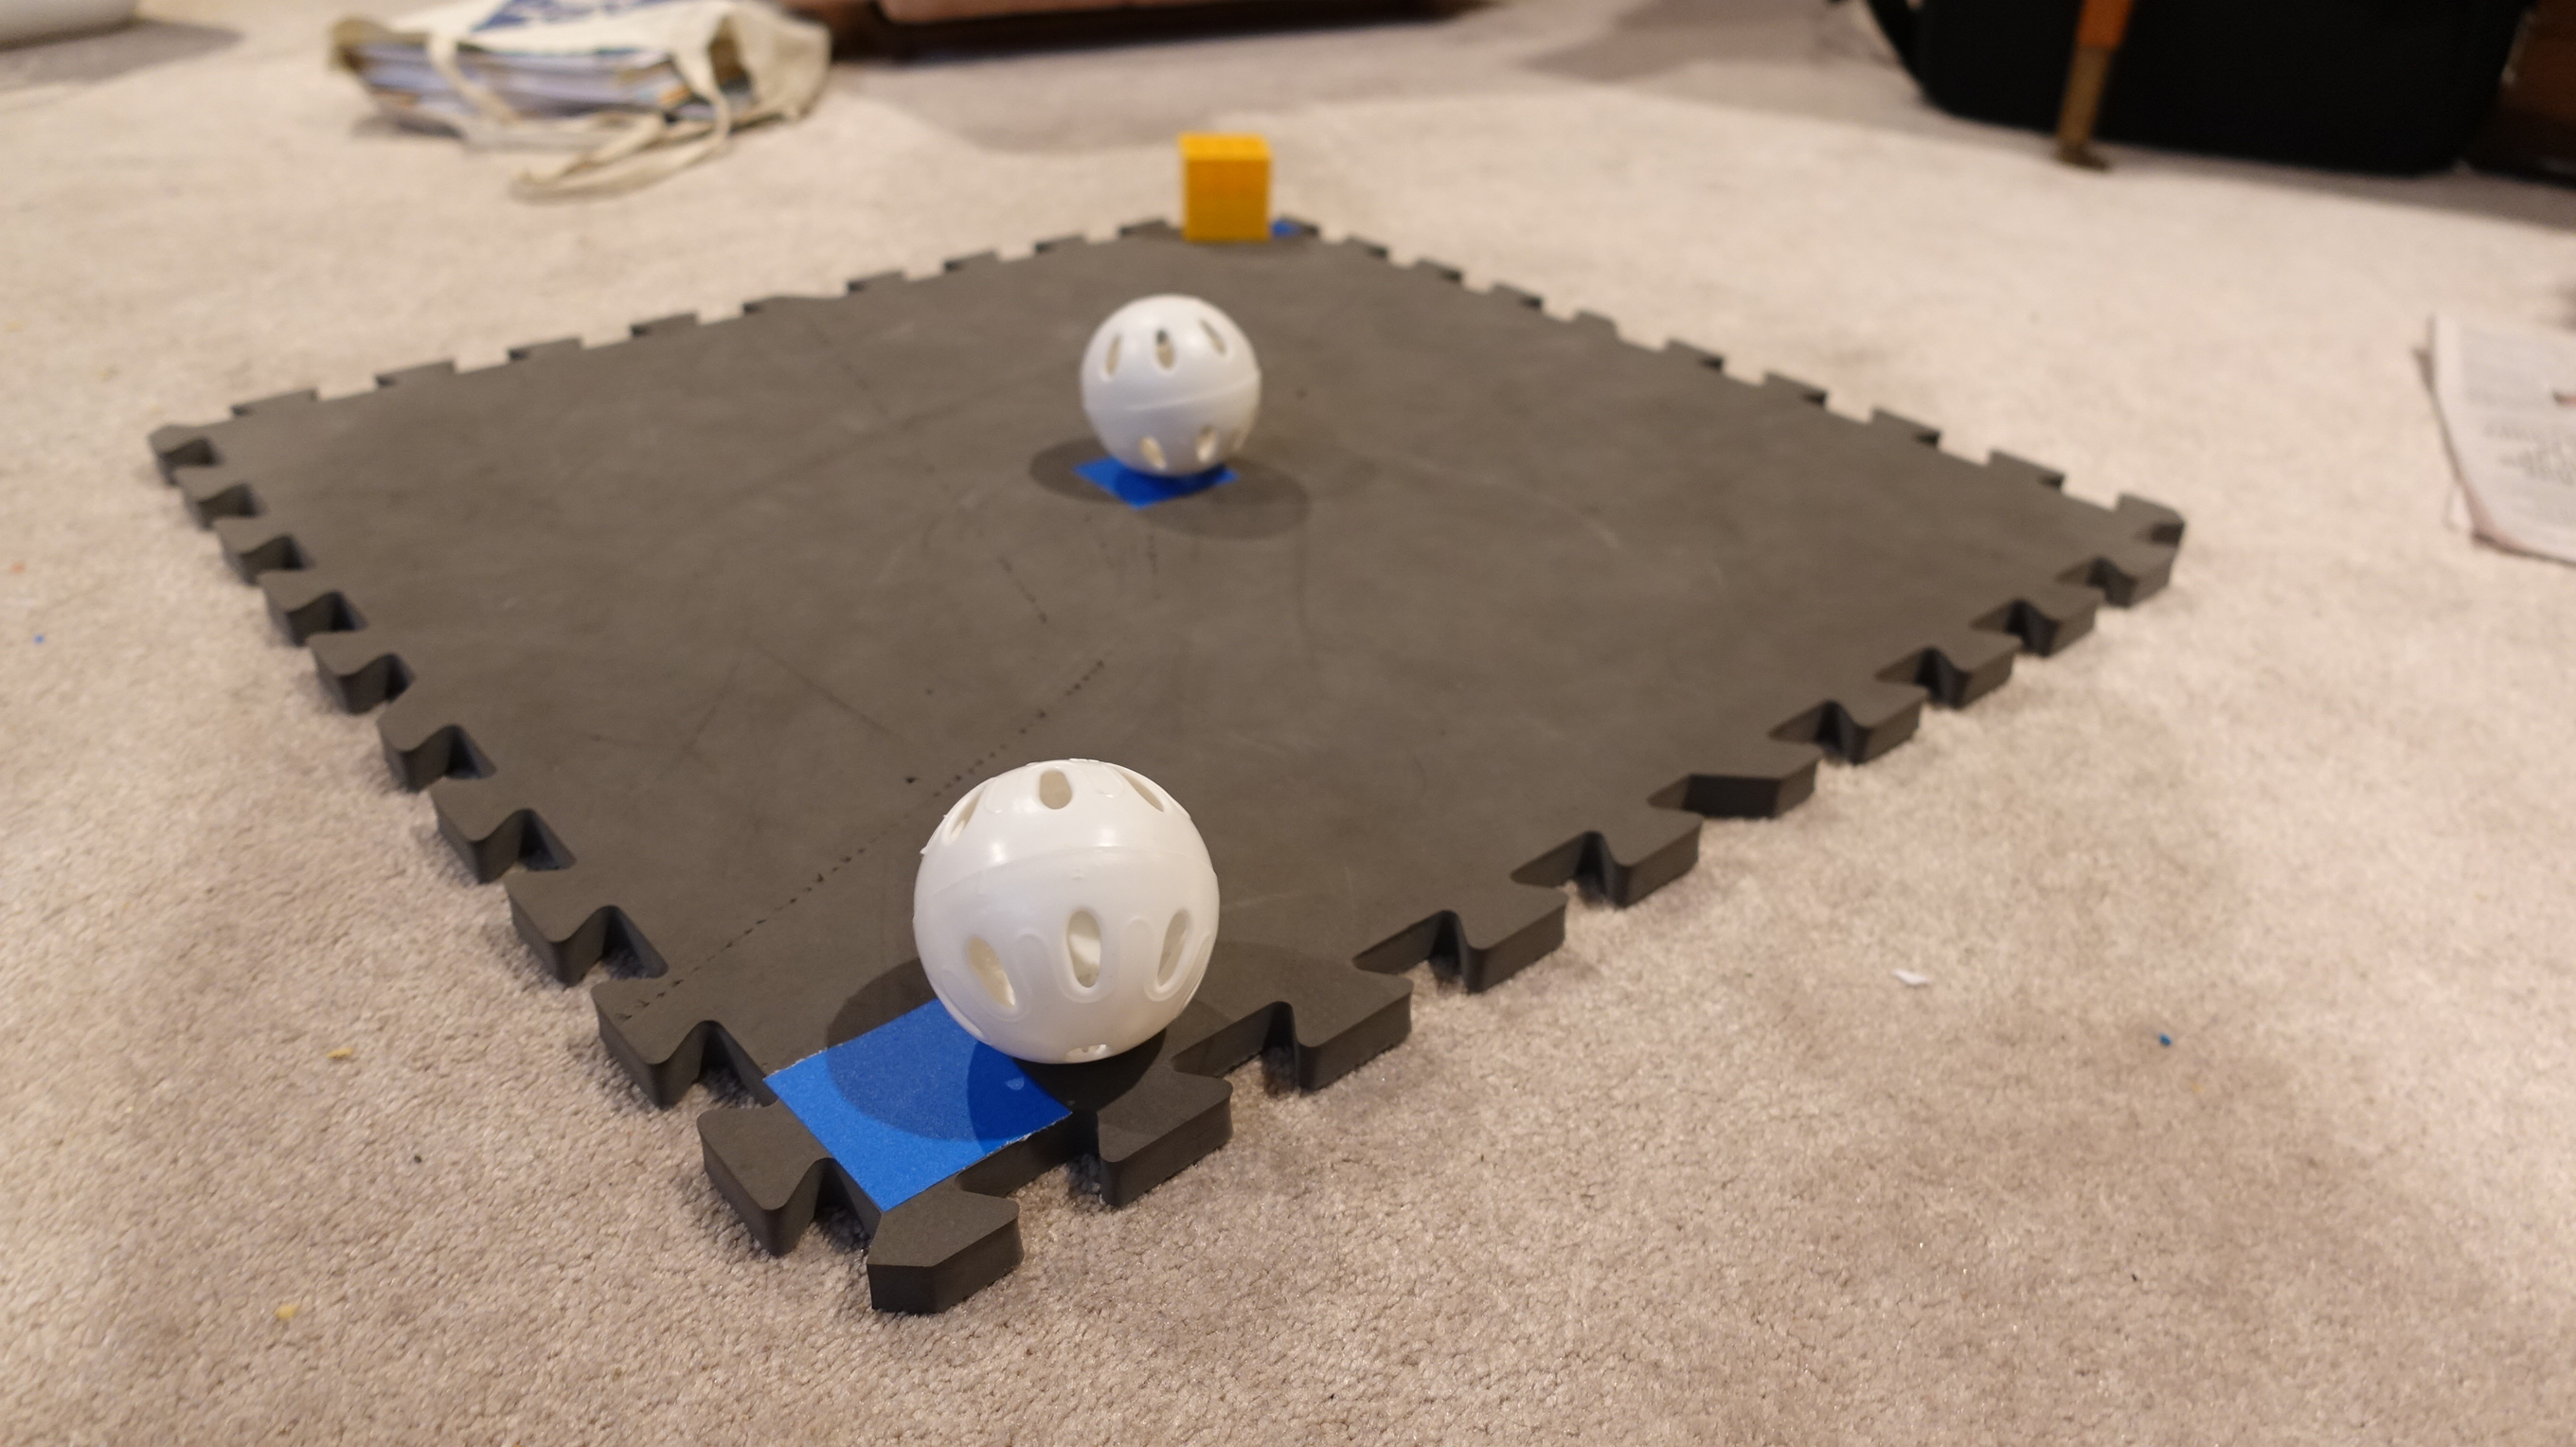gold: (1166, 120, 1292, 262)
silver: (915, 738, 1223, 1070), (1069, 285, 1270, 492)
